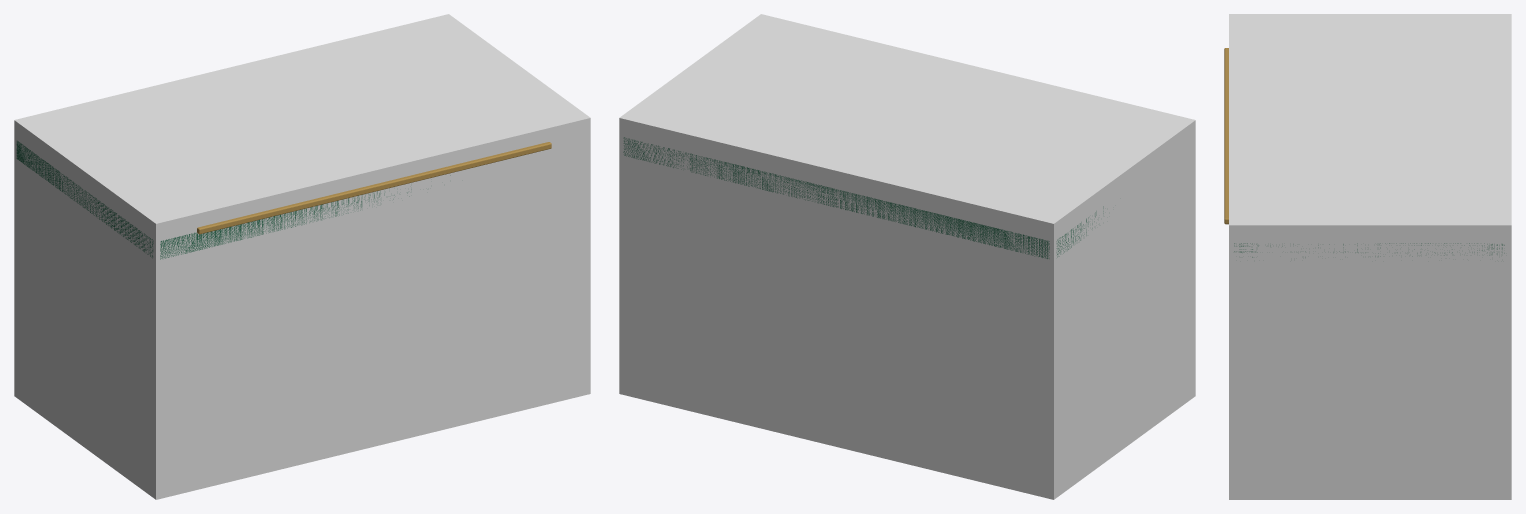
File: display-table_boutique.glb
3 views of the same model, side by side, from view 1: azimuth 30°, elevation 25°; view 2: azimuth 150°, elevation 25°; view 3: azimuth 270°, elevation 25° (orthographic).
Visible parts, largest first — view 1: COL_display-table, MESH_DisplayTop, MESH_TierTrim_01; view 2: COL_display-table, MESH_DisplayTop; view 3: COL_display-table, MESH_TierTrim_01.
Boxes of the visible parts, left/top/right/bottom form: COL_display-table: left=14, top=14, right=590, bottom=499; MESH_DisplayTop: left=16, top=140, right=450, bottom=259; MESH_TierTrim_01: left=197, top=142, right=551, bottom=234; COL_display-table: left=619, top=14, right=1195, bottom=499; MESH_DisplayTop: left=623, top=137, right=1103, bottom=258; COL_display-table: left=1229, top=14, right=1511, bottom=499; MESH_TierTrim_01: left=1224, top=48, right=1228, bottom=224.
Size of the model in its own units: 1.45 by 0.88 by 0.833.
